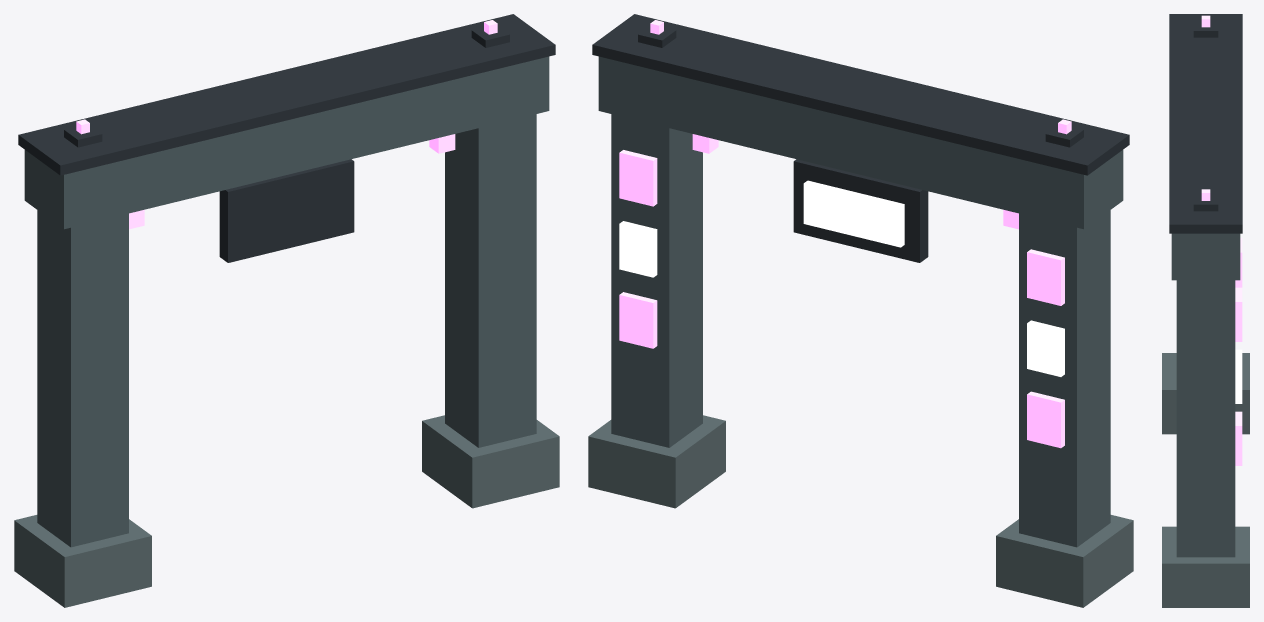
The model's file is synthwave-gate.glb.
3 views of the same model, side by side, from view 1: azimuth 30°, elevation 25°; view 2: azimuth 150°, elevation 25°; view 3: azimuth 270°, elevation 25° (orthographic). The views are drawn at different scales.
Parts seen in each view (by area): view 1: Gate_Body, Gate_Frame, Gate_Body2, Gate_DimA; view 2: Gate_Body, Gate_Frame, Gate_Body2, Gate_DimA, Gate_DimB; view 3: Gate_Body, Gate_Frame, Gate_Body2, Gate_DimA, Gate_DimB.
Boxes of the visible parts, left/top/right/bottom form: Gate_Body: left=24, top=56, right=549, bottom=547; Gate_Frame: left=18, top=14, right=555, bottom=262; Gate_Body2: left=14, top=415, right=559, bottom=607; Gate_DimA: left=76, top=20, right=497, bottom=229; Gate_Body: left=598, top=56, right=1123, bottom=547; Gate_Frame: left=592, top=14, right=1129, bottom=262; Gate_Body2: left=588, top=415, right=1133, bottom=607; Gate_DimA: left=619, top=20, right=1071, bottom=448; Gate_DimB: left=619, top=180, right=1064, bottom=376; Gate_Body: left=1171, top=233, right=1240, bottom=557; Gate_Frame: left=1169, top=14, right=1242, bottom=233; Gate_Body2: left=1162, top=353, right=1249, bottom=607; Gate_DimA: left=1201, top=15, right=1242, bottom=465; Gate_DimB: left=1235, top=349, right=1242, bottom=403.
Size of the model in its own units: 1.02 by 0.899 by 0.18.
